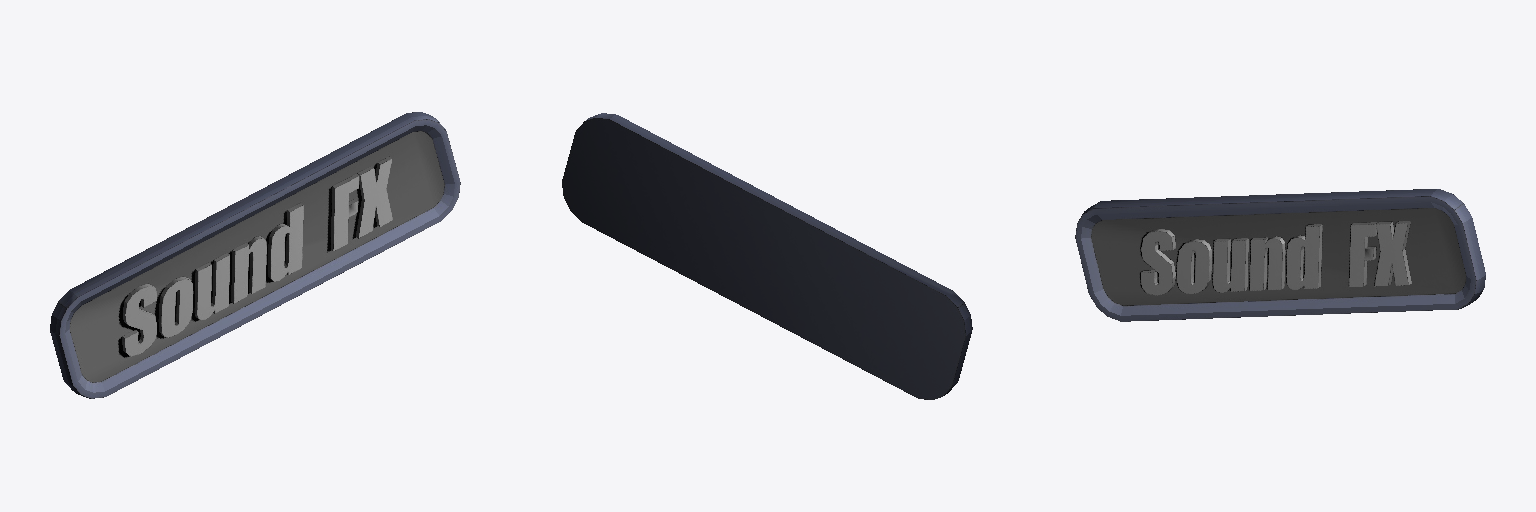
3 renders of one model, left to right at view 1: azimuth 30°, elevation 25°; view 2: azimuth 150°, elevation 25°; view 3: azimuth 330°, elevation 25°, orthographic.
Visible parts, largest first — view 1: Rectangle001; view 2: Rectangle001; view 3: Rectangle001.
Boxes of the visible parts, x1,y1,x2,y2 form: Rectangle001: [50, 112, 460, 398]; Rectangle001: [562, 113, 972, 399]; Rectangle001: [1075, 189, 1485, 321].
Bounding box in the file's own units: 319 × 154 × 11.24.
Materials: 1 (1 with a texture image).